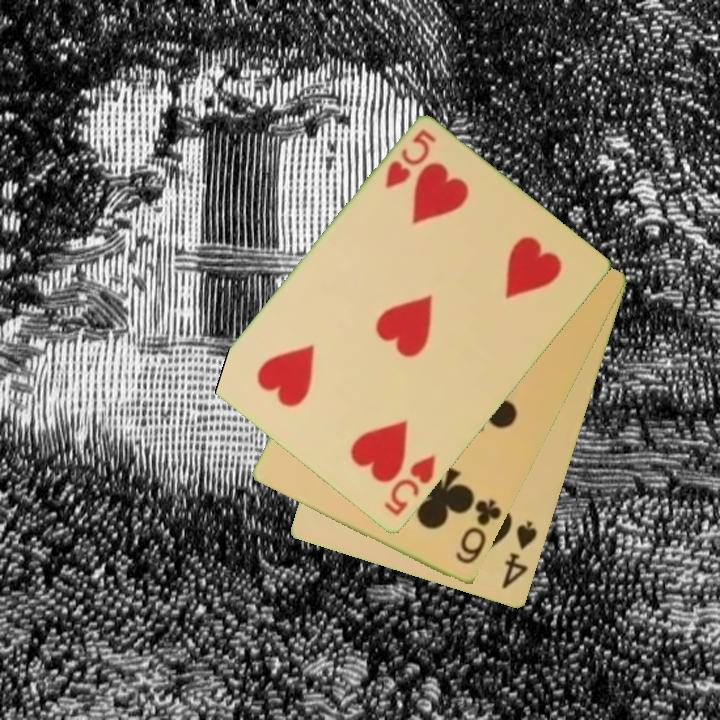4s: (498, 517, 541, 593)
5h: (380, 452, 439, 520), (381, 126, 440, 193)
6c: (452, 496, 505, 568)
